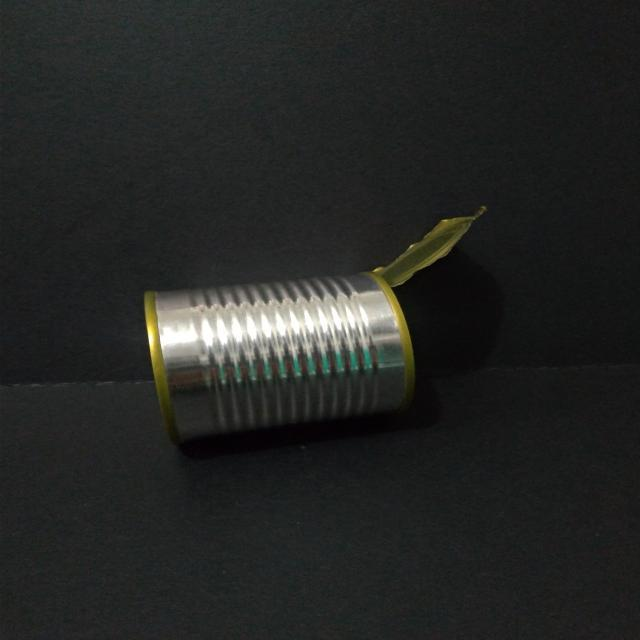metal-can: (138, 203, 490, 452)
